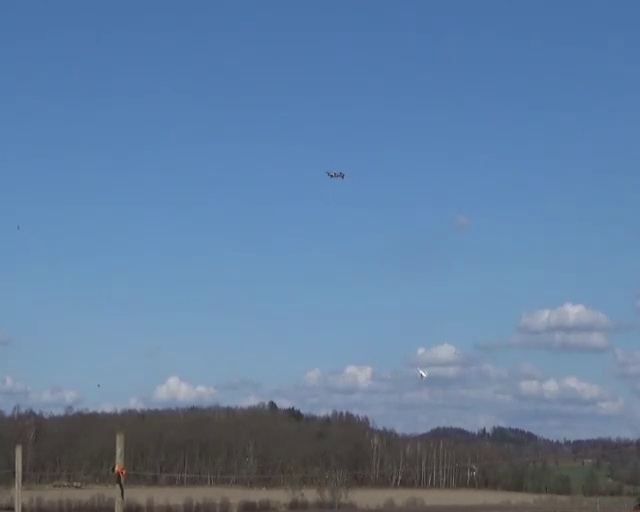DRONE: (325, 170, 345, 179)
